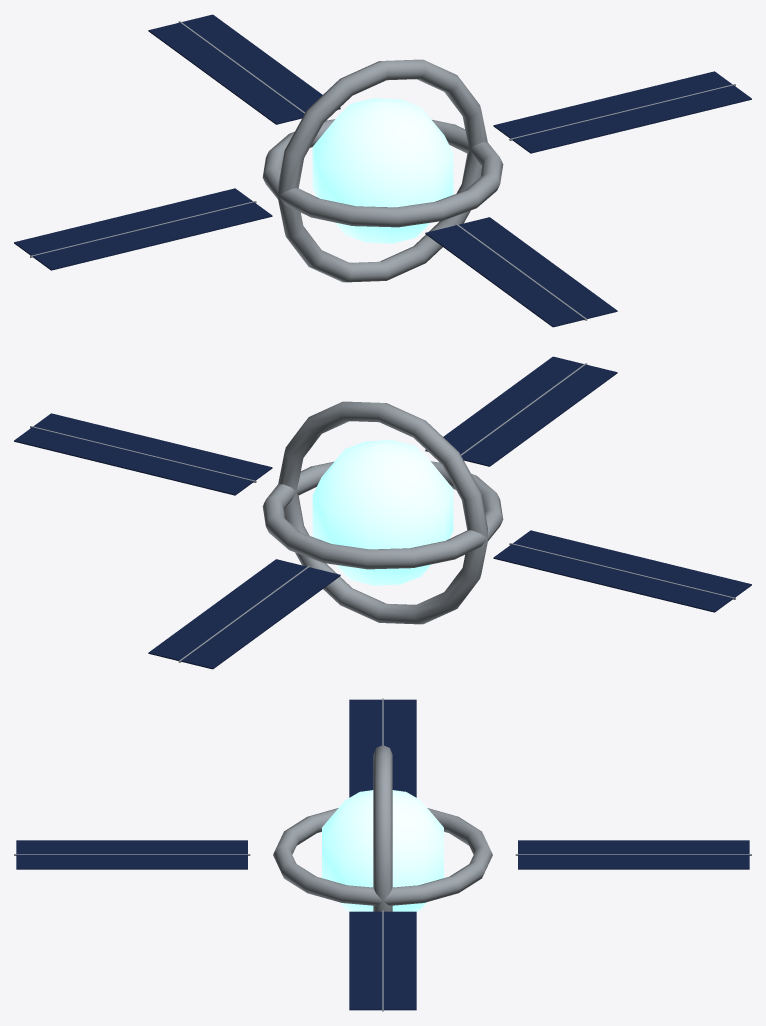
The model's file is space_orbital_energy_t2.glb.
3 views of the same model, one above another, from view 1: azimuth 30°, elevation 25°; view 2: azimuth 150°, elevation 25°; view 3: azimuth 270°, elevation 25° (orthographic). The views are drawn at different scales.
Visible parts, largest first — view 1: body, solar_0, solar_2, solar_1, solar_3; view 2: body, solar_0, solar_2, solar_3, solar_1; view 3: body, solar_1, solar_3, solar_0, solar_2.
Part boxes in pixels (left/top/right/bottom): body: left=262, top=59, right=503, bottom=282; solar_0: left=493, top=71, right=751, bottom=153; solar_2: left=14, top=188, right=272, bottom=270; solar_1: left=425, top=217, right=617, bottom=327; solar_3: left=148, top=14, right=340, bottom=124; body: left=262, top=401, right=503, bottom=624; solar_0: left=14, top=413, right=272, bottom=495; solar_2: left=493, top=530, right=751, bottom=612; solar_3: left=148, top=559, right=340, bottom=669; solar_1: left=425, top=356, right=617, bottom=466; body: left=273, top=745, right=492, bottom=911; solar_1: left=14, top=840, right=250, bottom=869; solar_3: left=515, top=840, right=751, bottom=869; solar_0: left=349, top=910, right=416, bottom=1011; solar_2: left=349, top=698, right=416, bottom=797.
Size of what is drawn, in the model's own units: 38.24 by 11.4 by 38.24.
